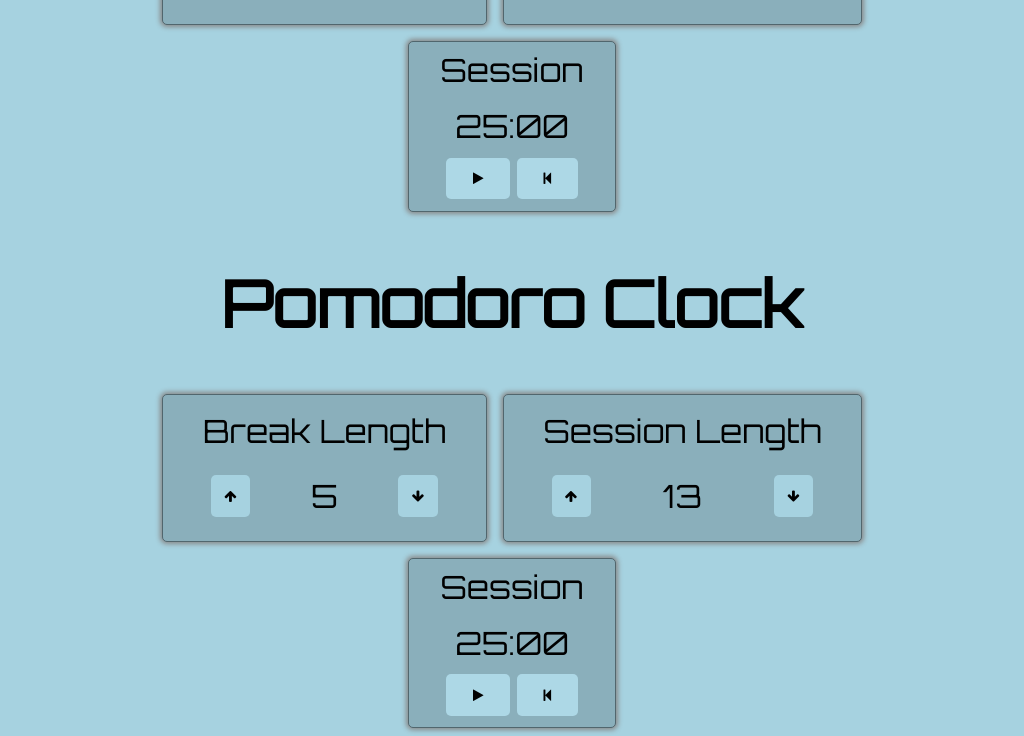
Test case: App tests › Increments sessionlength when session-increment is clicked, and you can see the updated value
(page scrolled)
Click the button with id "session-increment": (571, 496) [552,476,590,517]
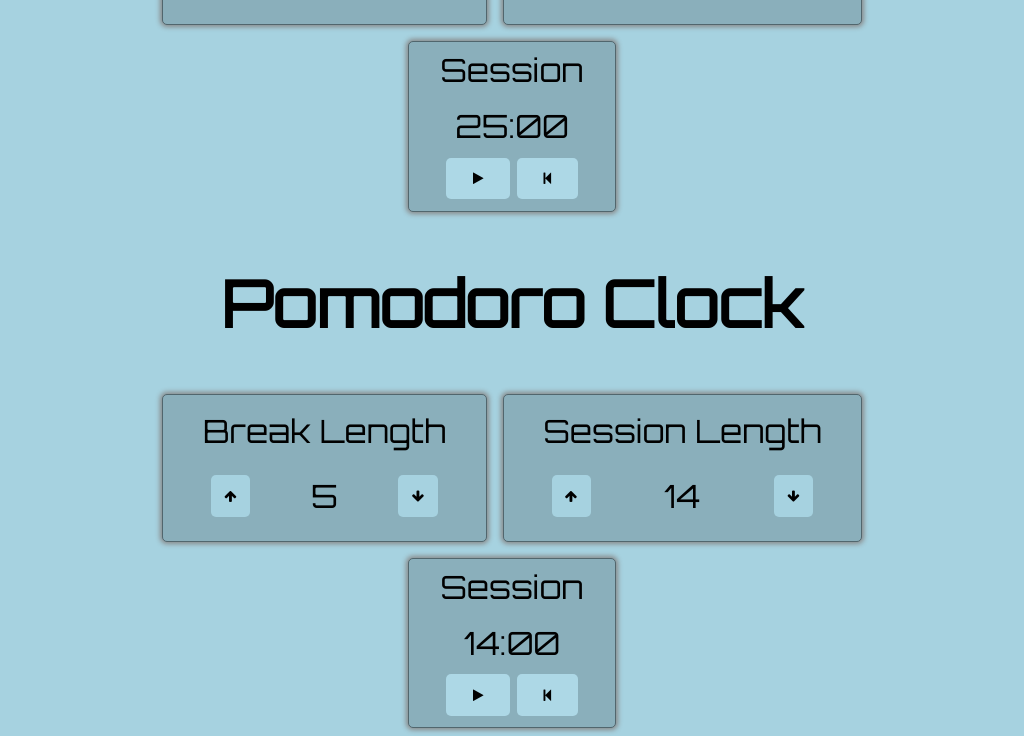
Check: the text with id "session-length" reads "14", box [664,476,700,516]
